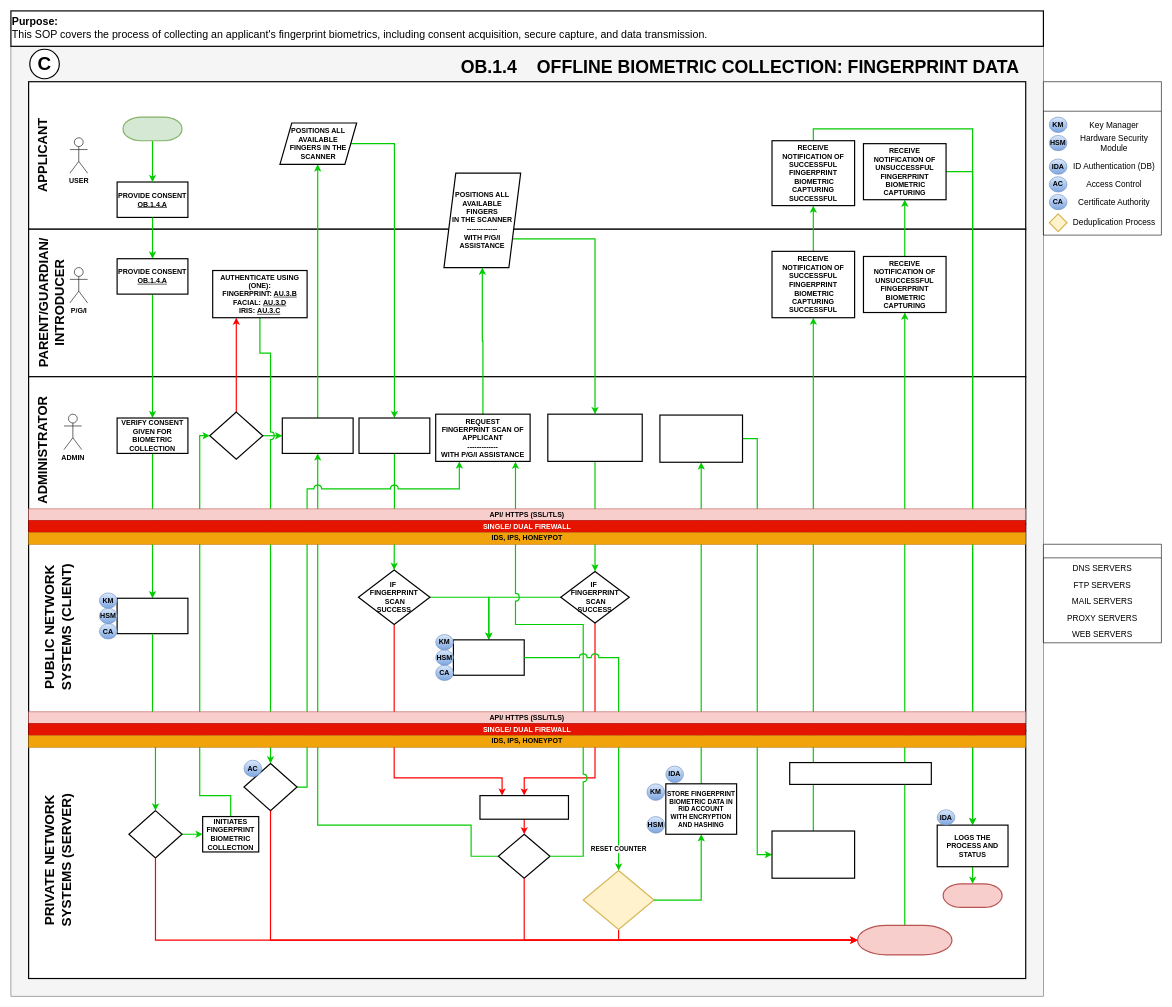
Some shapes in this 1172 by 1007 pixel diagram are drawn without their labels. Here are the shapes that lost their labels. From the top down, the box of each, then its label:
(122, 116, 182, 141): START
(1043, 81, 1161, 235): LEGEND
(209, 411, 263, 460): IF APPLICANT AGE >5
(281, 417, 353, 454): REQUEST FINGERPRINT SCAN OF APPLICANT
(358, 417, 430, 454): CAPTURE FINGERPRINT IMAGE OF APPLICANT
(547, 413, 643, 462): CAPTURE FINGERPRINT IMAGE OF APPLICANT ------------- WITH P/G/I ASSISTANCE
(659, 414, 743, 463): RECEIVE CONFIRMATION OF FINGERPRINT BIOMETRIC CAPTURE COMPLETED
(1043, 544, 1161, 643): PUBLIC NETWORK
(116, 597, 188, 634): MASK & ENCRYPT RID AND APPLICANT DETAILS
(453, 639, 525, 676): MASK & ENCRYPT FINGERPRINT SCAN
(243, 763, 297, 811): IF AUTH. SUCCESS
(789, 762, 932, 785): NOTIFICATION GENERATOR
(479, 795, 569, 820): EXCEPTION AND ERROR HANDLING (COUNTER)
(128, 810, 182, 858): IF CONSENT GIVEN
(497, 833, 550, 879): IF RETRY COUNT < = 3
(771, 830, 855, 879): NOTIFY THE PARTICIPANTS
(582, 870, 654, 930): IF FINGERPRINT BIOMETRIC DATA IS UNIQUE
(942, 883, 1002, 908): END
(857, 925, 952, 955): TERMINATE PROCESS: REJECT APPLICATION
